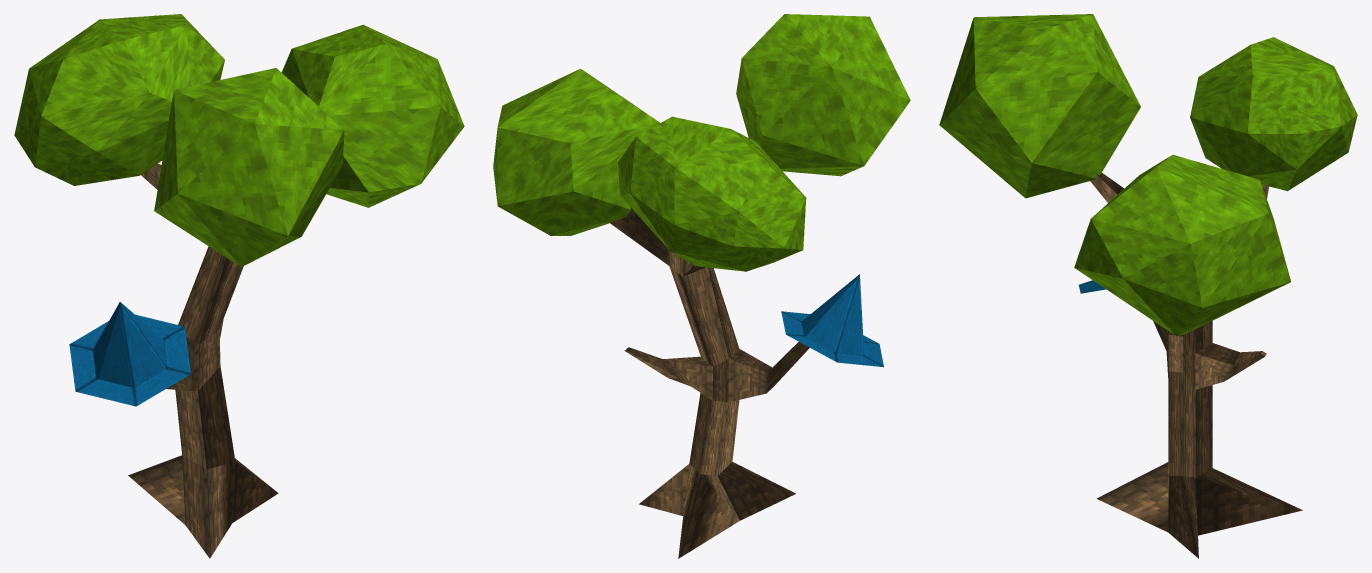
Rendered from Tree Hat.fbx.
3 renders of one model, left to right at view 1: azimuth 30°, elevation 25°; view 2: azimuth 150°, elevation 25°; view 3: azimuth 270°, elevation 25°, orthographic. The views are drawn at different scales.
Visible parts, largest first — view 1: Leaves1, Leaves3, Leaves2, TreeTrunk, WizardHat; view 2: Leaves1, Leaves3, TreeTrunk, Leaves2, WizardHat; view 3: Leaves1, Leaves2, Leaves3, TreeTrunk.
Part boxes in pixels (x1,y1,x2,y2): Leaves1: [154, 68, 344, 267]; Leaves3: [14, 14, 224, 185]; Leaves2: [281, 24, 464, 207]; TreeTrunk: [128, 163, 278, 558]; WizardHat: [69, 302, 190, 406]; Leaves1: [736, 14, 910, 176]; Leaves3: [618, 116, 806, 271]; TreeTrunk: [609, 207, 809, 558]; Leaves2: [493, 68, 659, 235]; WizardHat: [781, 274, 883, 367]; Leaves1: [939, 14, 1140, 198]; Leaves2: [1074, 155, 1290, 336]; Leaves3: [1190, 37, 1357, 191]; TreeTrunk: [1090, 173, 1302, 558].
Bounding box in the file's own units: 32.36 × 39.55 × 30.4.
3 materials, 3 textured.
